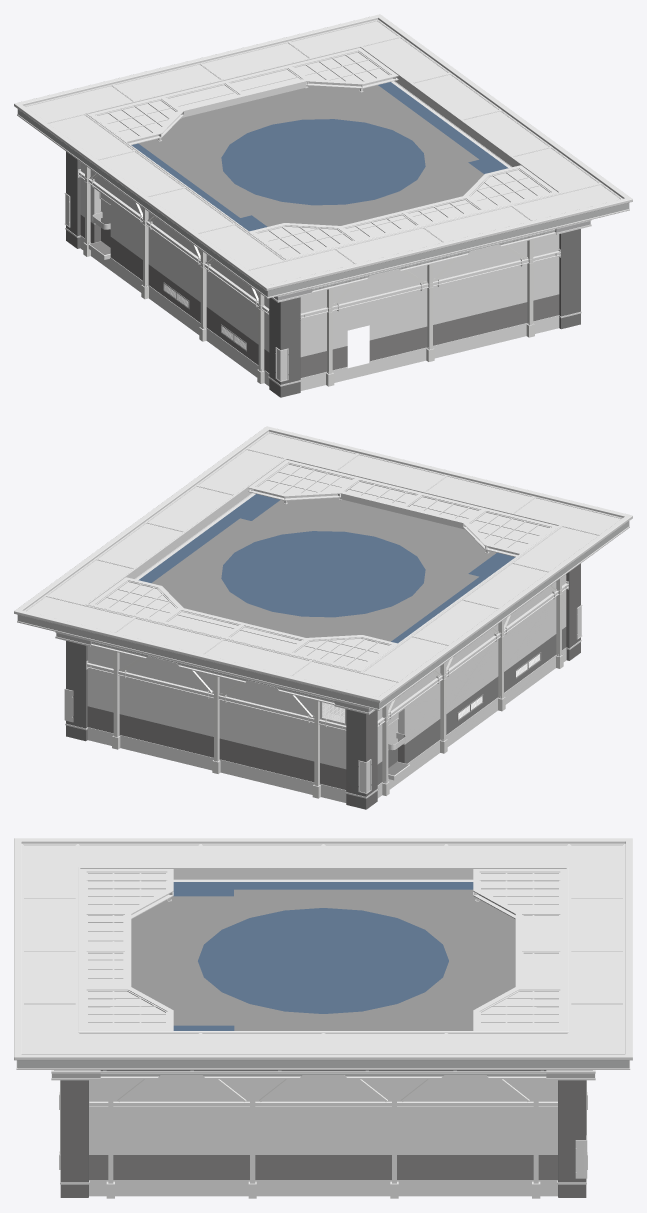
The picture shows the model from 3 angles, top to bottom: view 1: azimuth 30°, elevation 25°; view 2: azimuth 150°, elevation 25°; view 3: azimuth 270°, elevation 25°; orthographic projection. The views are drawn at different scales.
Parts seen in each view (by area): view 1: SM_I_RoadFacility_Ground_L_11; view 2: SM_I_RoadFacility_Ground_L_11; view 3: SM_I_RoadFacility_Ground_L_11.
Boxes of the visible parts, x1,y1,x2,y2 form: SM_I_RoadFacility_Ground_L_11: (14, 14, 632, 397); SM_I_RoadFacility_Ground_L_11: (14, 426, 632, 809); SM_I_RoadFacility_Ground_L_11: (14, 838, 632, 1198).
Size of the model in its own units: 1134 by 949 by 325.
